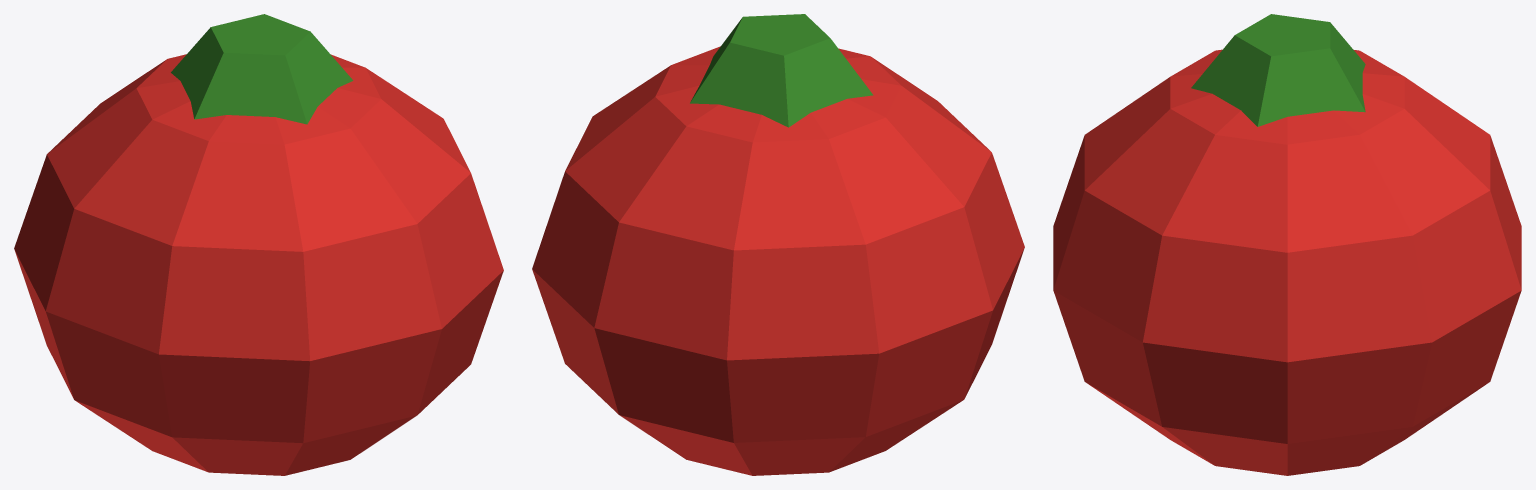
The model's file is food_tomato.glb.
3 views of the same model, side by side, from view 1: azimuth 30°, elevation 25°; view 2: azimuth 150°, elevation 25°; view 3: azimuth 270°, elevation 25° (orthographic).
Parts seen in each view (by area): view 1: tomato_food_tomato, stem_food_stem; view 2: tomato_food_tomato, stem_food_stem; view 3: tomato_food_tomato, stem_food_stem.
Part boxes in pixels (x1,y1,x2,y2): tomato_food_tomato: (14,54,503,475); stem_food_stem: (171,14,353,124); tomato_food_tomato: (532,46,1024,475); stem_food_stem: (690,14,873,127); tomato_food_tomato: (1053,49,1521,475); stem_food_stem: (1191,14,1365,126).
Size of the model in its own units: 0.14 by 0.13 by 0.1331.
